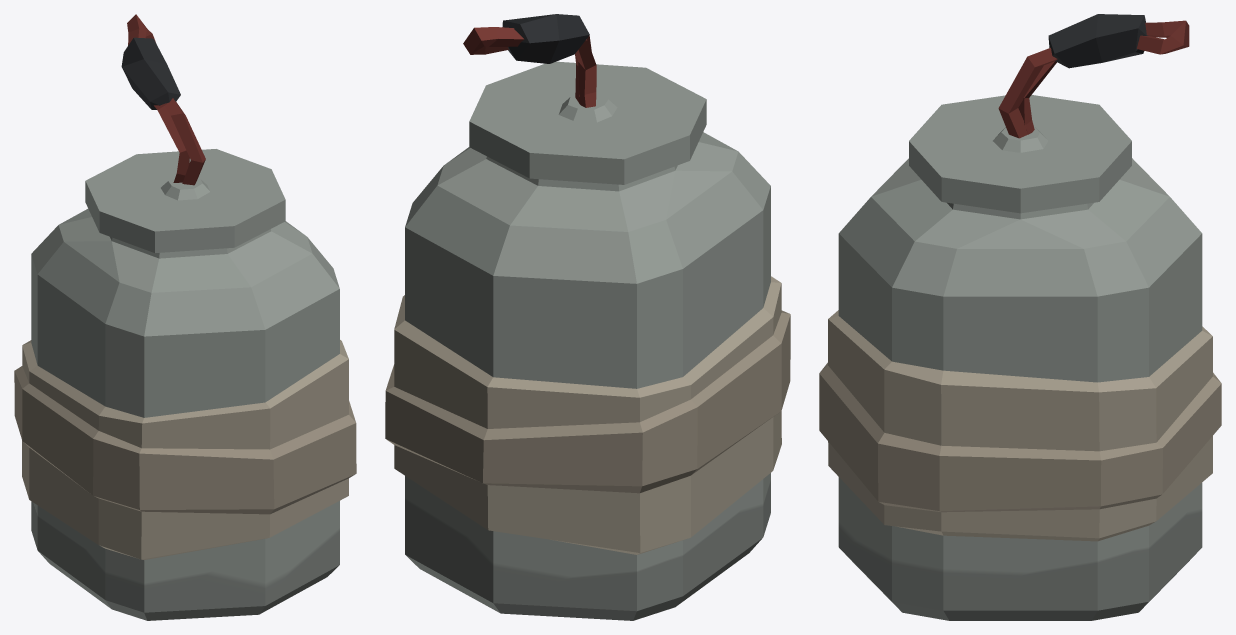
The model's file is SM_Prop_IED_05.fbx.
The picture shows the model from 3 angles, left to right: view 1: azimuth 30°, elevation 25°; view 2: azimuth 150°, elevation 25°; view 3: azimuth 270°, elevation 25°; orthographic projection. The views are drawn at different scales.
Visible parts, largest first — view 1: SM_Prop_IED_05; view 2: SM_Prop_IED_05; view 3: SM_Prop_IED_05.
Boxes of the visible parts, bbox=[...] form: SM_Prop_IED_05: bbox=[14, 14, 356, 620]; SM_Prop_IED_05: bbox=[385, 14, 790, 620]; SM_Prop_IED_05: bbox=[819, 14, 1221, 620].
Bounding box in the file's own units: 20.49 × 37.38 × 24.56.
